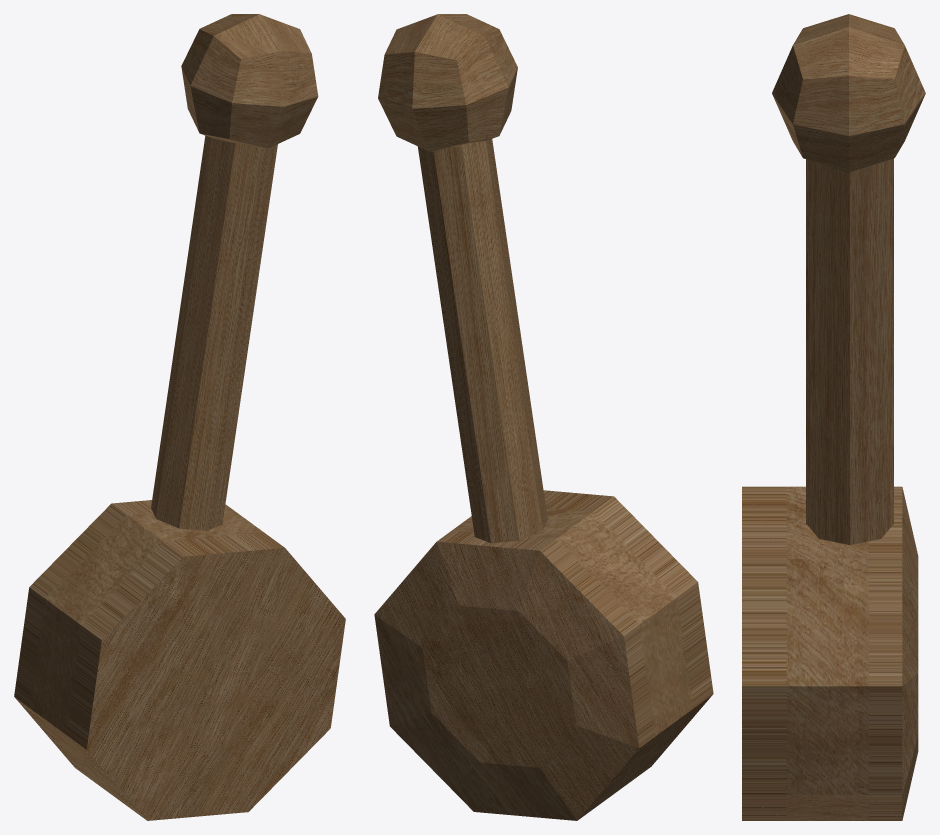
Rendered from alavanca.glb.
The picture shows the model from 3 angles, left to right: view 1: azimuth 30°, elevation 25°; view 2: azimuth 150°, elevation 25°; view 3: azimuth 270°, elevation 25°; orthographic projection. The views are drawn at different scales.
Parts seen in each view (by area): view 1: Cylinder.004; view 2: Cylinder.004; view 3: Cylinder.004.
Boxes of the visible parts, x1,y1,x2,y2 form: Cylinder.004: [14, 14, 345, 820]; Cylinder.004: [374, 14, 713, 820]; Cylinder.004: [742, 14, 925, 820].
Bounding box in the file's own units: 2.03 × 5.35 × 1.08.
1 material, 1 textured.
